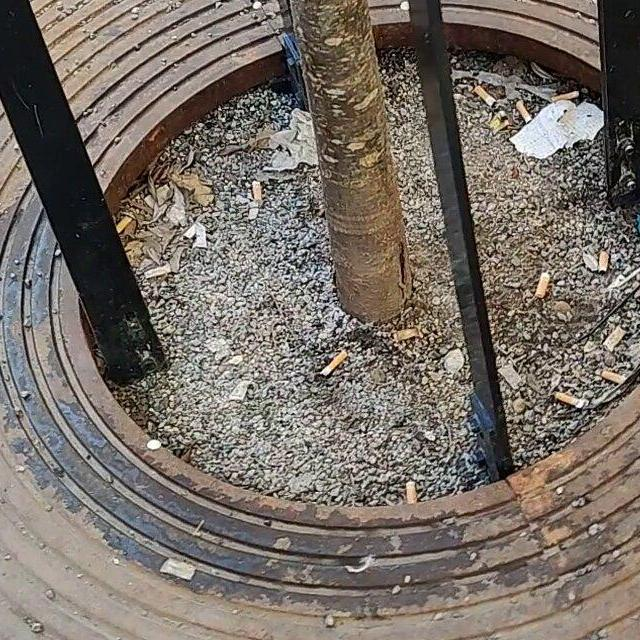Cigarette Butt: (314, 346, 351, 383), (595, 364, 631, 387), (553, 390, 587, 413), (470, 79, 496, 109), (603, 327, 629, 356), (548, 88, 579, 107), (242, 179, 266, 200), (114, 210, 135, 233), (595, 250, 613, 276), (534, 272, 550, 300), (404, 478, 421, 504), (516, 101, 531, 121)
